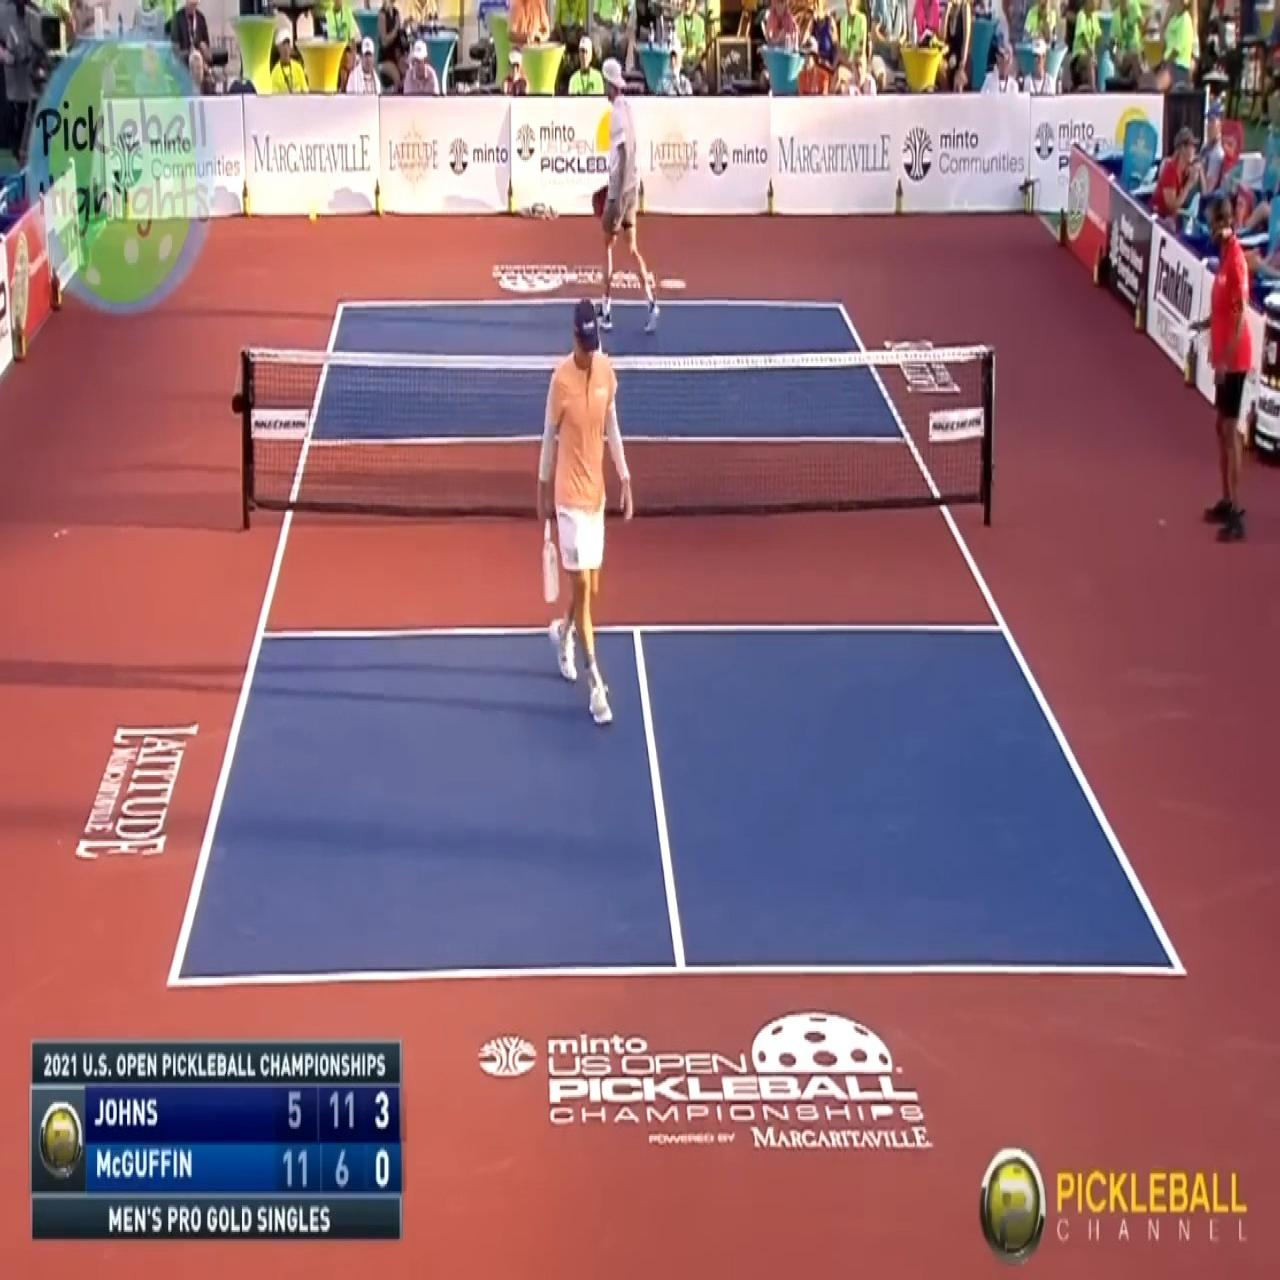pickleball: (308, 209, 316, 222)
